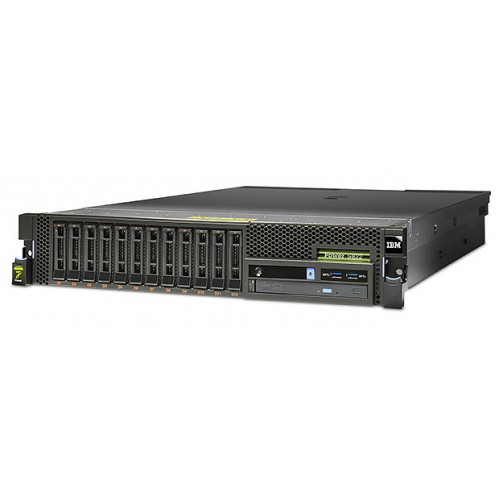ibm-server: (7, 180, 490, 313)
